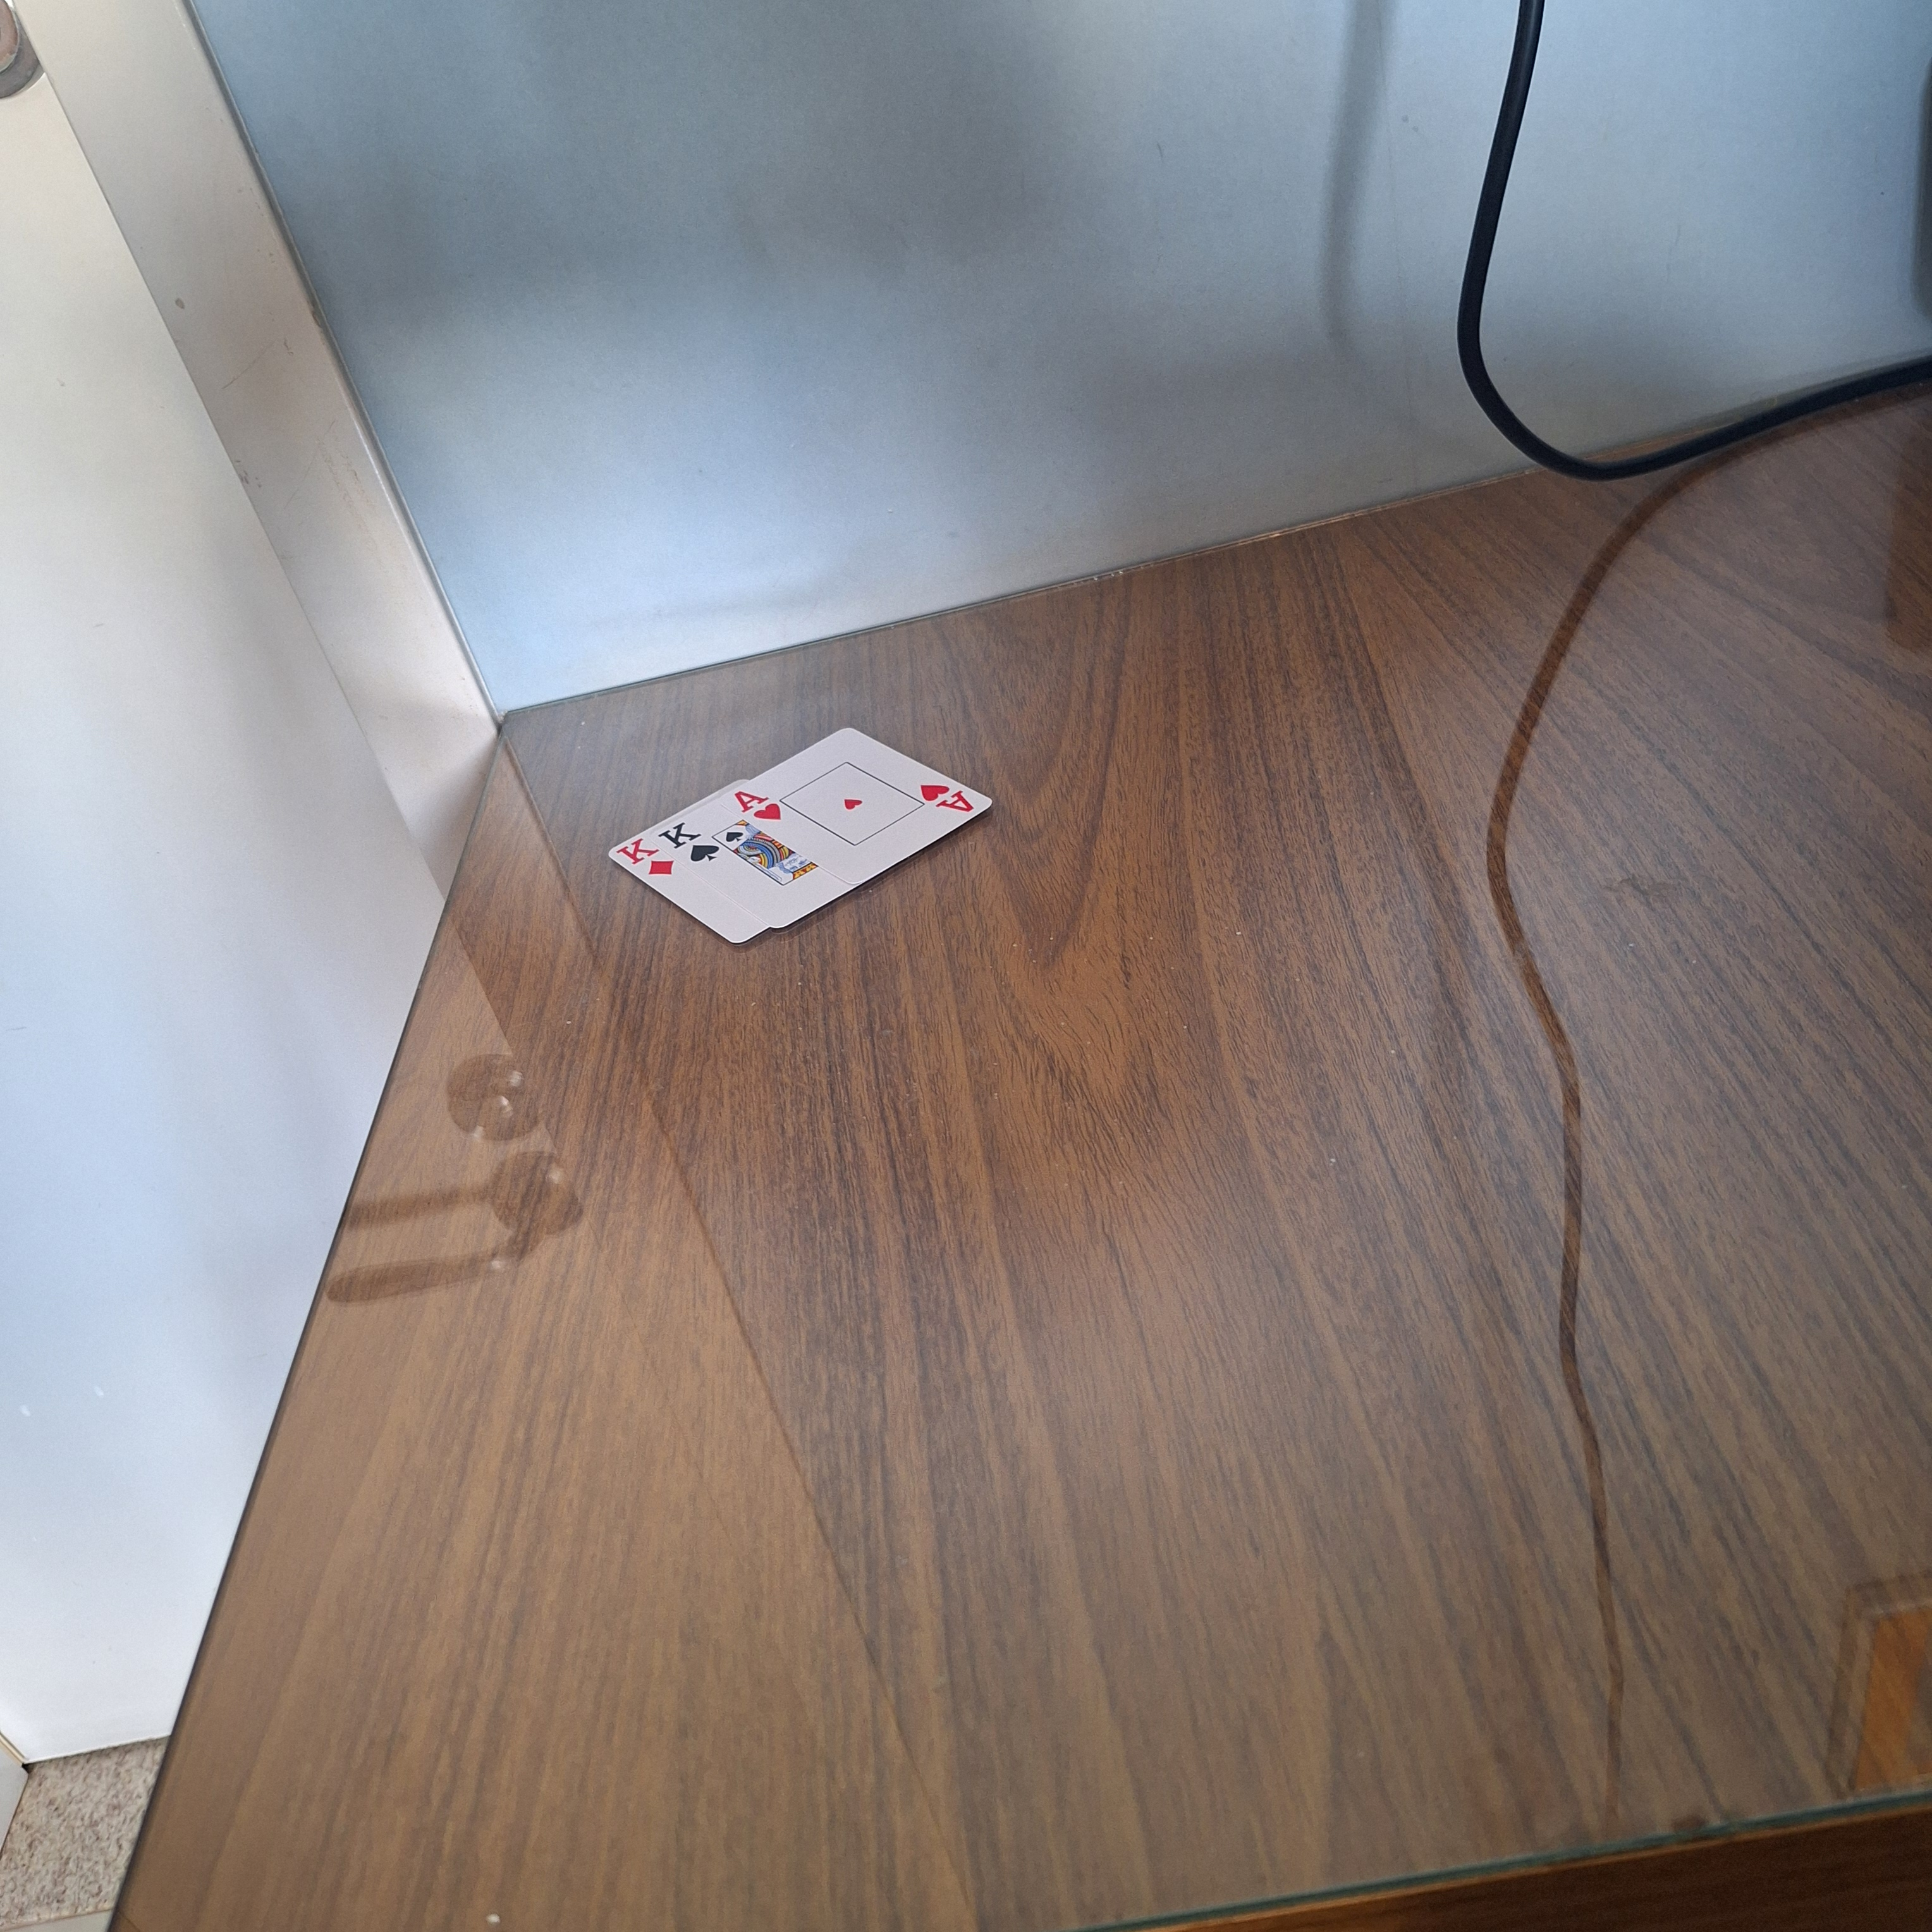AC: (731, 784, 789, 826), (918, 777, 977, 819)
KE: (658, 819, 720, 863)
KO: (617, 837, 678, 881)
